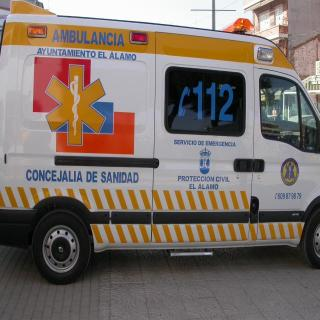Ambulance: (0, 0, 320, 292)
